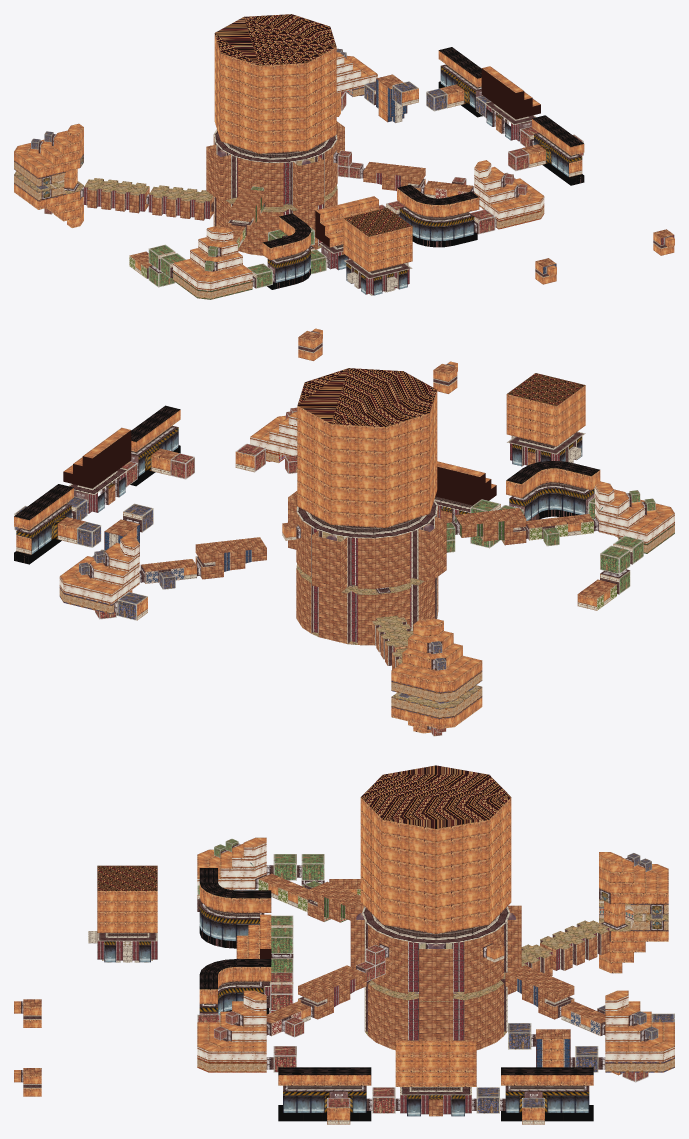
Rendered from DeathChamber.obj.
3 views of the same model, one above another, from view 1: azimuth 30°, elevation 25°; view 2: azimuth 150°, elevation 25°; view 3: azimuth 270°, elevation 25° (orthographic). The views are drawn at different scales.
Bounding box in the file's own units: 2590 × 1165 × 2850.
Materials: 42 (42 with a texture image).
